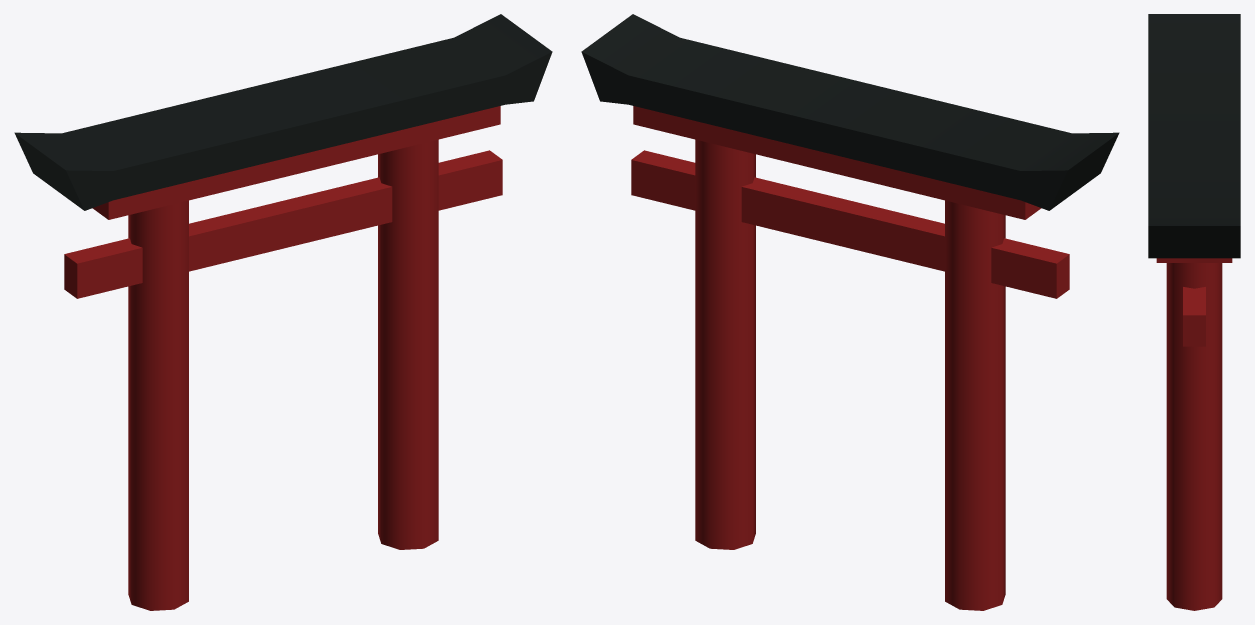
File: shinto shrine.glb
3 renders of one model, left to right at view 1: azimuth 30°, elevation 25°; view 2: azimuth 150°, elevation 25°; view 3: azimuth 270°, elevation 25°, orthographic. The views are drawn at different scales.
Parts seen in each view (by area): view 1: shrine; view 2: shrine; view 3: shrine.
Boxes of the visible parts, left/top/right/bottom form: shrine: left=14, top=14, right=552, bottom=610; shrine: left=581, top=14, right=1119, bottom=610; shrine: left=1148, top=14, right=1240, bottom=610.
Bounding box in the file's own units: 0.7919 × 0.7395 × 0.1453.
